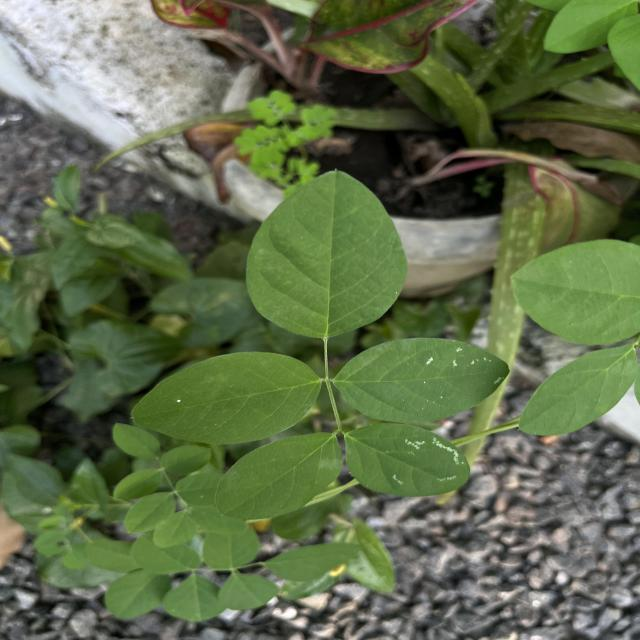Clitoria ternatea: (243, 167, 410, 341), (130, 349, 324, 446), (332, 337, 512, 425), (213, 432, 344, 520), (344, 422, 472, 498)
